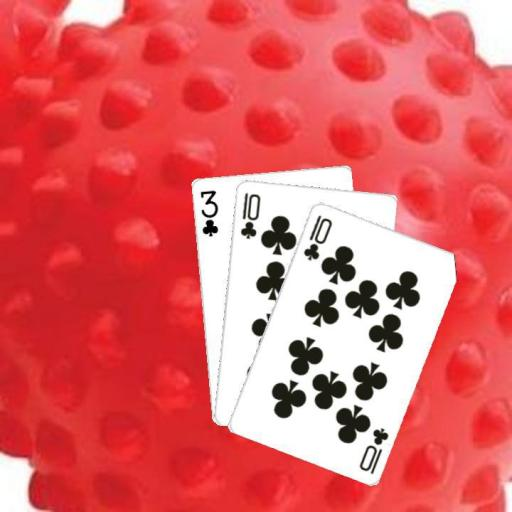10C: (356, 424, 391, 476), (300, 211, 334, 262), (237, 190, 262, 241)
3C: (196, 187, 220, 238)
